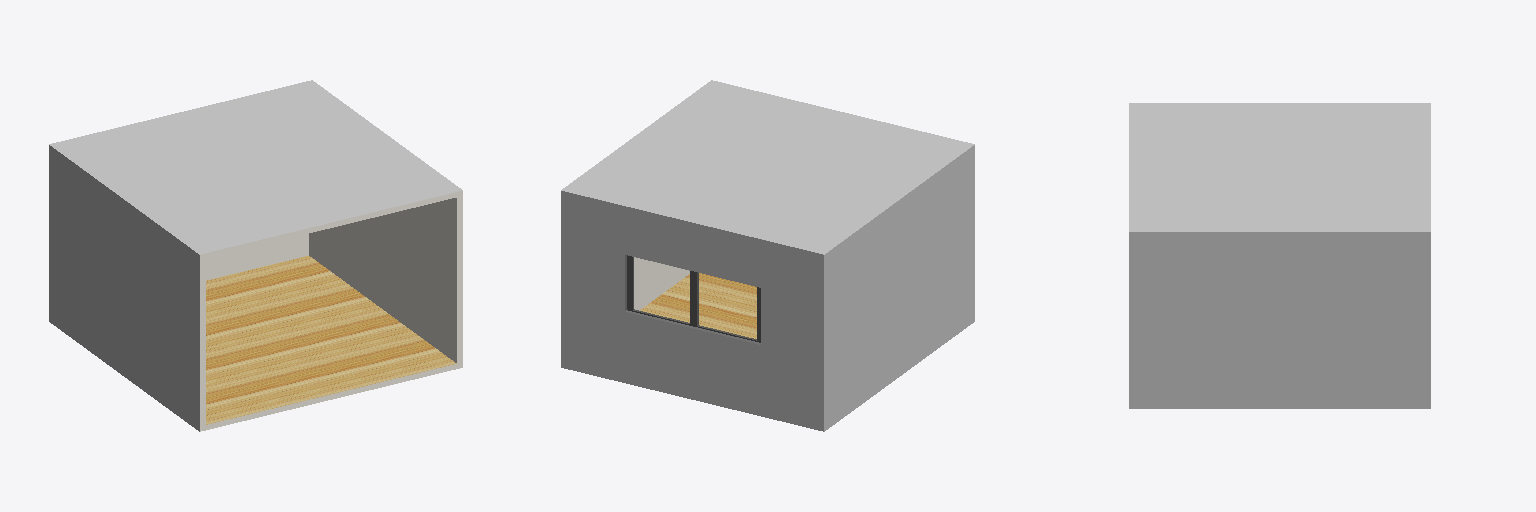
3 renders of one model, left to right at view 1: azimuth 30°, elevation 25°; view 2: azimuth 150°, elevation 25°; view 3: azimuth 270°, elevation 25°, orthographic.
Visible parts, largest first — view 1: pCube3; view 2: pCube3, pCube7; view 3: pCube3.
Part boxes in pixels (left/top/right/bottom): pCube3: left=49, top=80, right=462, bottom=431; pCube3: left=561, top=80, right=974, bottom=431; pCube7: left=627, top=255, right=760, bottom=342; pCube3: left=1129, top=103, right=1430, bottom=408.
Size of the model in its own units: 25.52 by 16.39 by 25.29.
Materials: 6 (1 with a texture image).